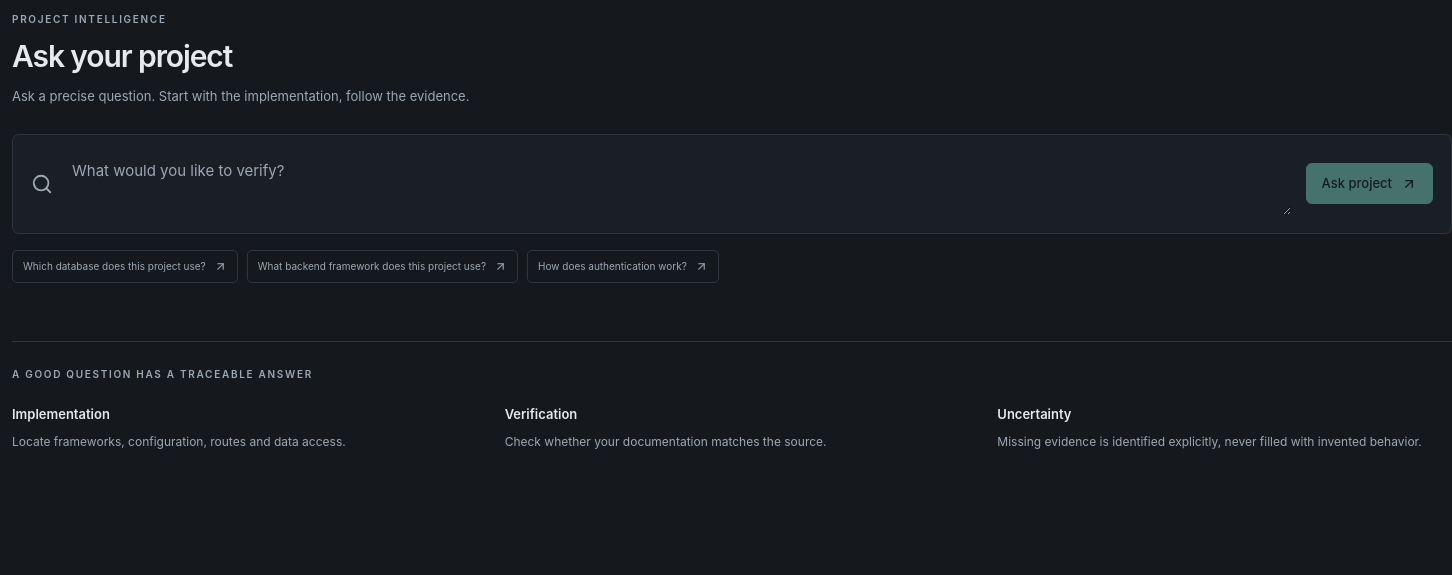
Test: Project questions › shows a cited answer after submitting a question
The width and height of the screenshot is (1452, 575).
Type "Which database?" into the text box named "Project question" at (679,184), box [68,153,1291,215]
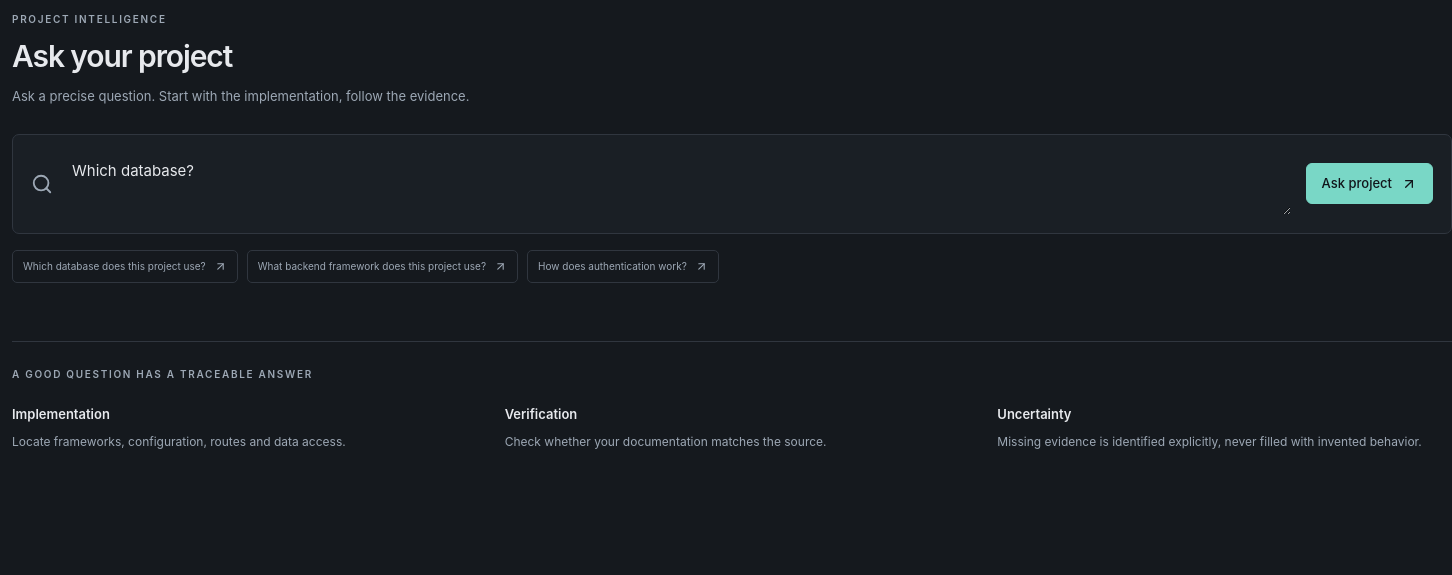
Click the button "Ask project" at (1369,184), box [1306,163,1433,204]
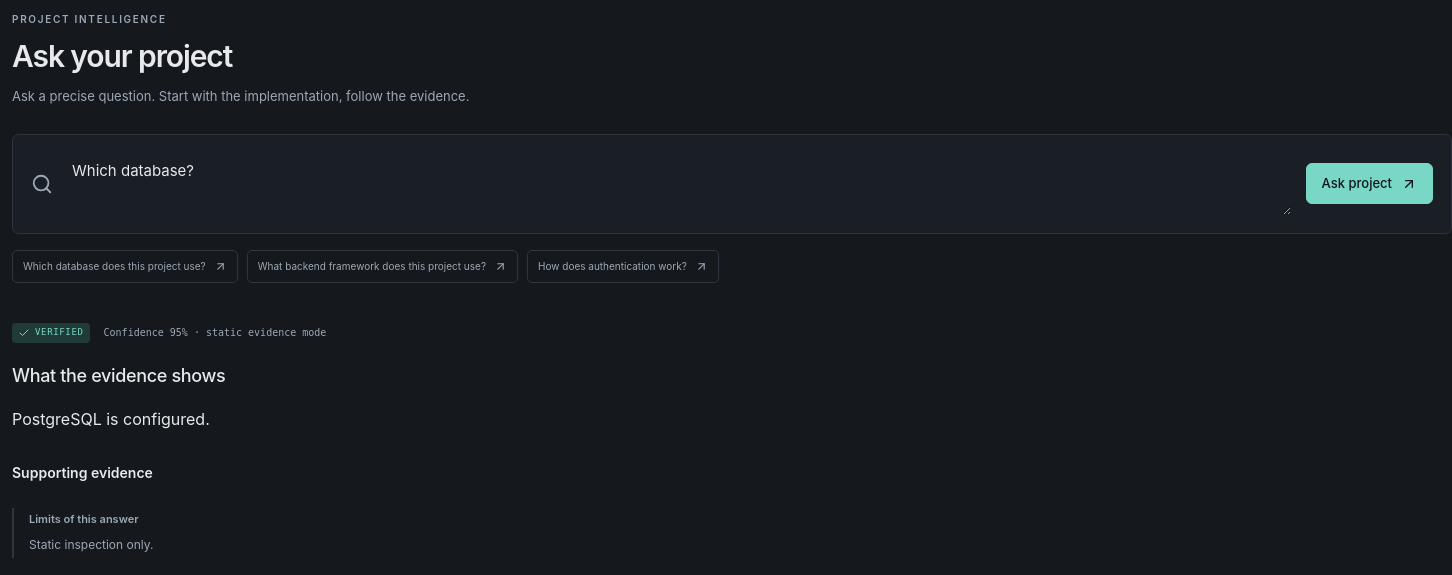
Check: the text "PostgreSQL is configured." is shown, box [12,409,210,429]
Check: the text "Static inspection only." is shown, box [29,537,153,552]
